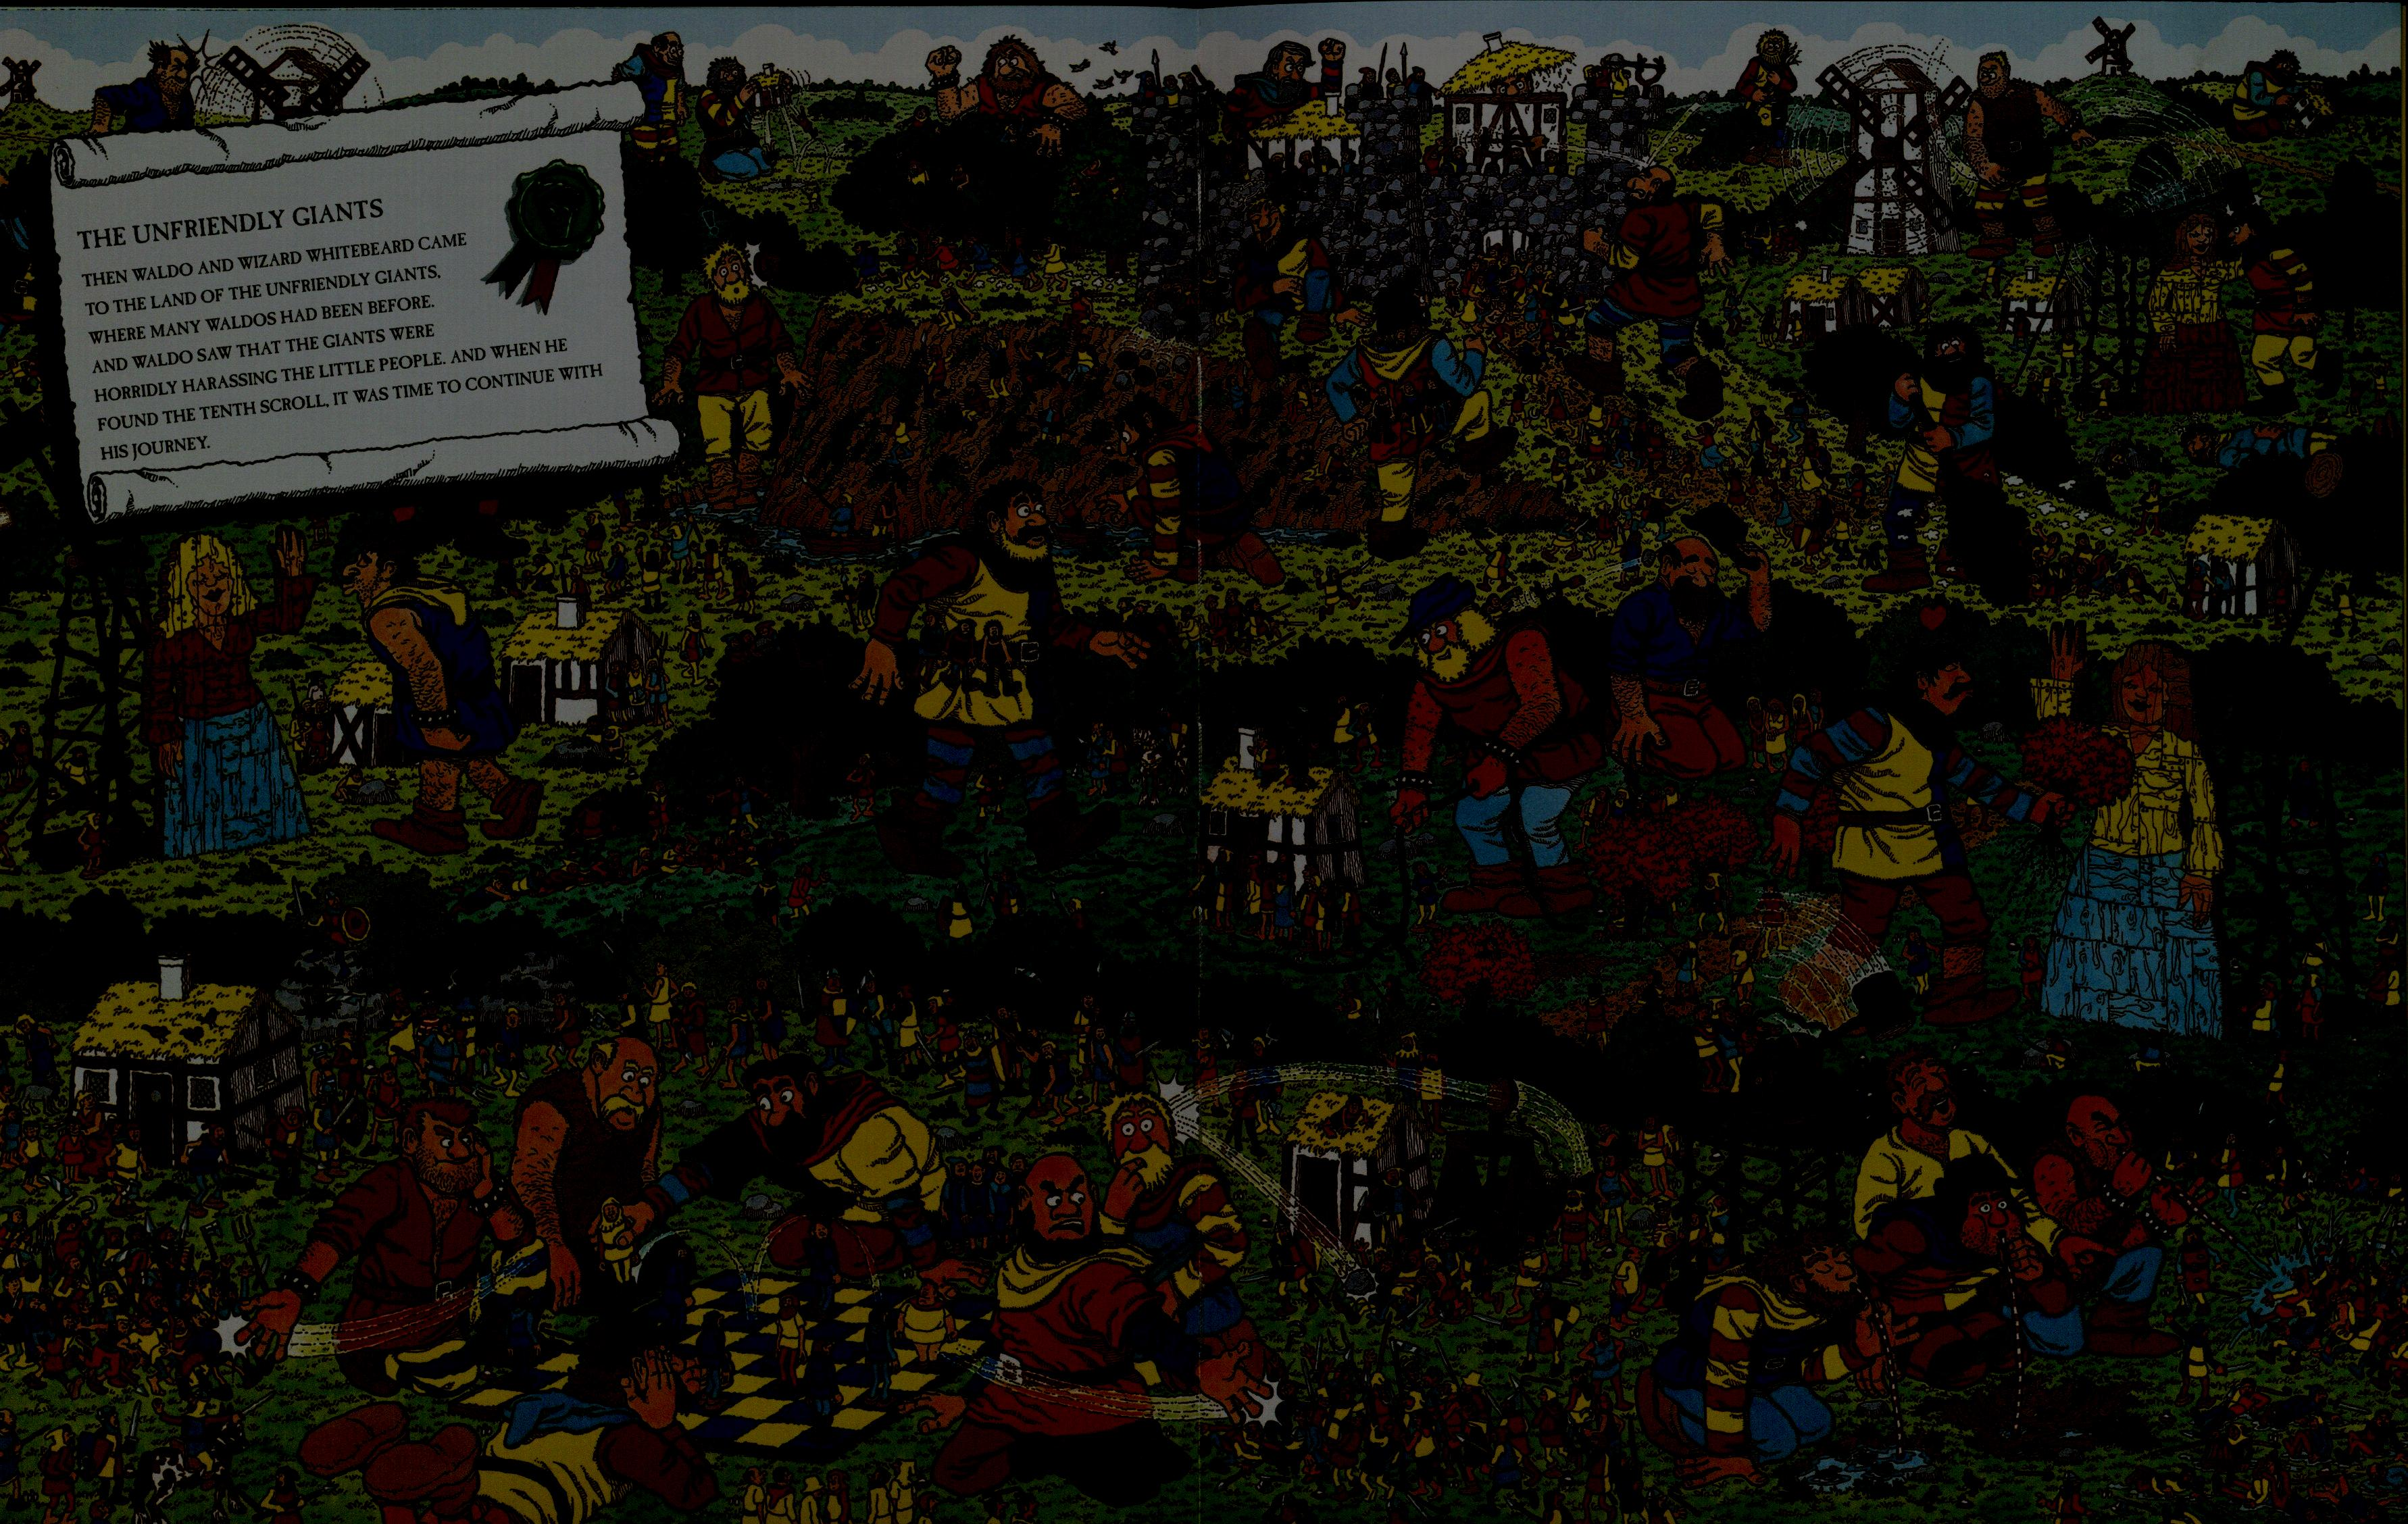waldos: (412, 983, 444, 1046)
